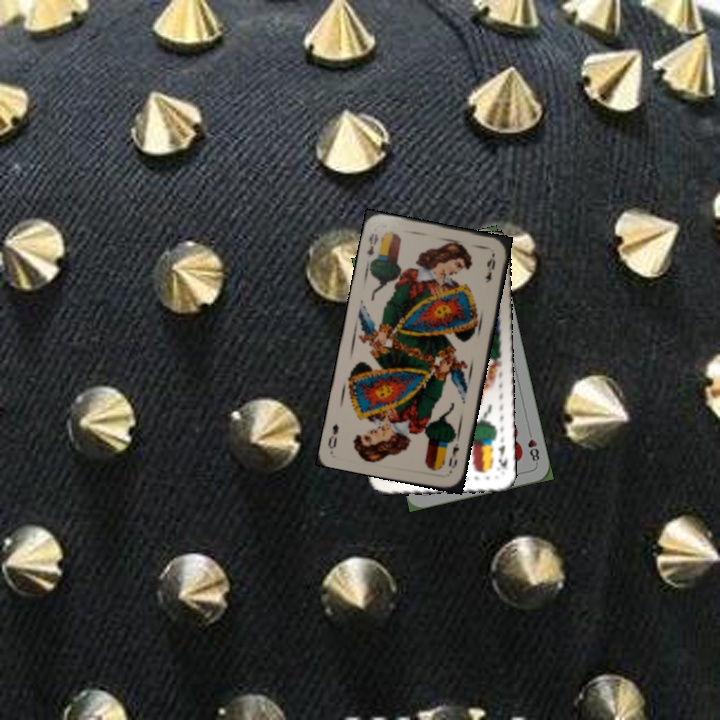EK: (494, 440, 510, 471)
EO: (444, 439, 462, 471), (363, 229, 381, 258)
H8: (524, 426, 542, 466)
